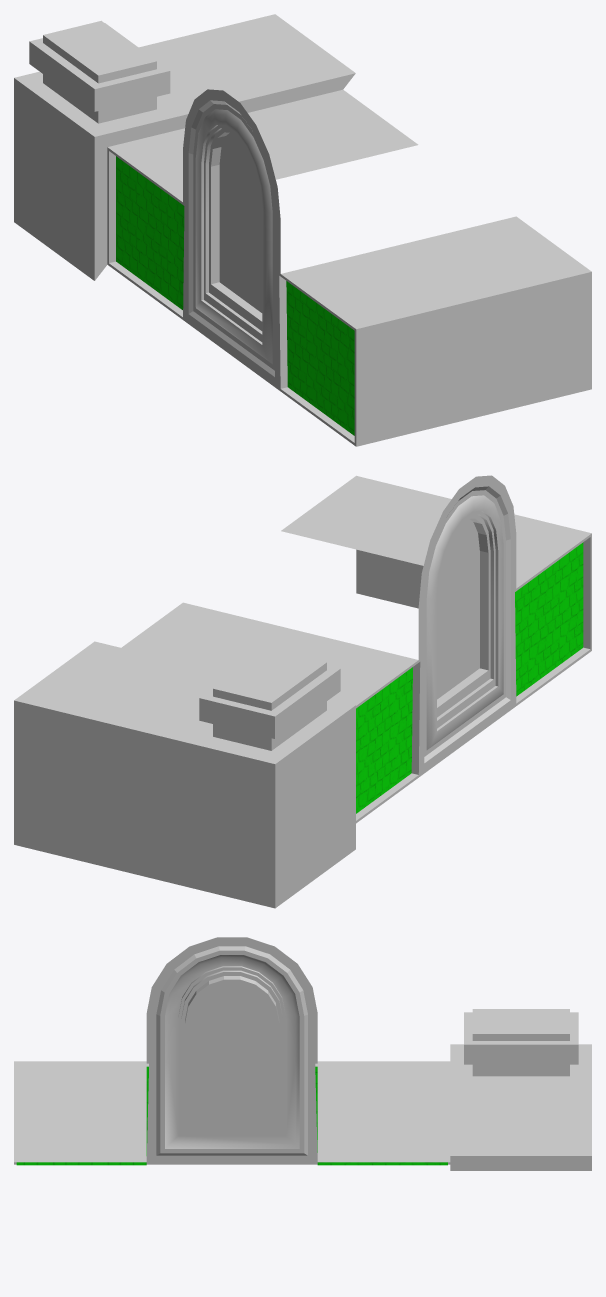
The picture shows the model from 3 angles, top to bottom: view 1: azimuth 30°, elevation 25°; view 2: azimuth 150°, elevation 25°; view 3: azimuth 270°, elevation 25°; orthographic projection. The views are drawn at different scales.
Parts seen in each view (by area): view 1: Cylinder001, block001, window_grass; view 2: Cylinder001, block001, window_grass; view 3: Cylinder001, window_grass, block001.
Boxes of the visible parts, bbox=[...] form: Cylinder001: bbox=[14, 14, 591, 446]; block001: bbox=[116, 156, 354, 435]; window_grass: bbox=[219, 132, 262, 312]; Cylinder001: bbox=[14, 475, 591, 908]; block001: bbox=[356, 542, 583, 813]; window_grass: bbox=[437, 519, 479, 699]; Cylinder001: bbox=[14, 937, 591, 1170]; window_grass: bbox=[185, 979, 279, 1126]; block001: bbox=[16, 1066, 447, 1165].
Bounding box in the file's own units: 108 × 108 × 236.
